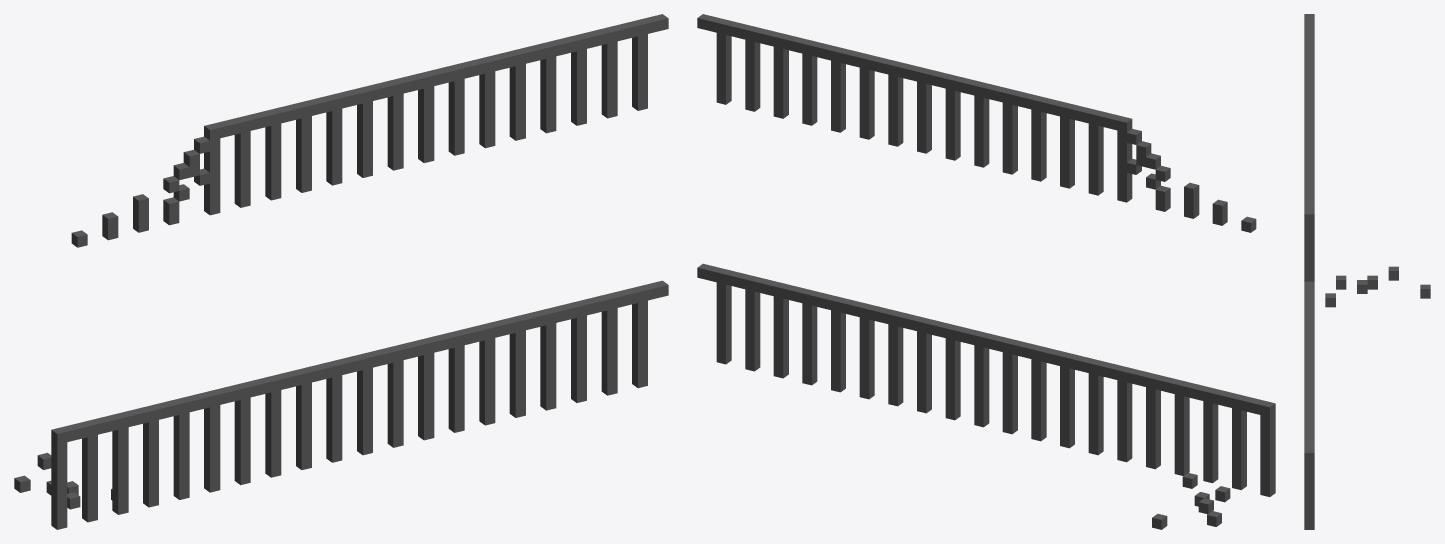
Rendered from do ciacole ringhia.obj.
The picture shows the model from 3 angles, left to right: view 1: azimuth 30°, elevation 25°; view 2: azimuth 150°, elevation 25°; view 3: azimuth 270°, elevation 25°; orthographic projection. The views are drawn at different scales.
Size of the model in its own units: 12 by 6.8 by 2.4.
Materials: 1 (1 with a texture image).
